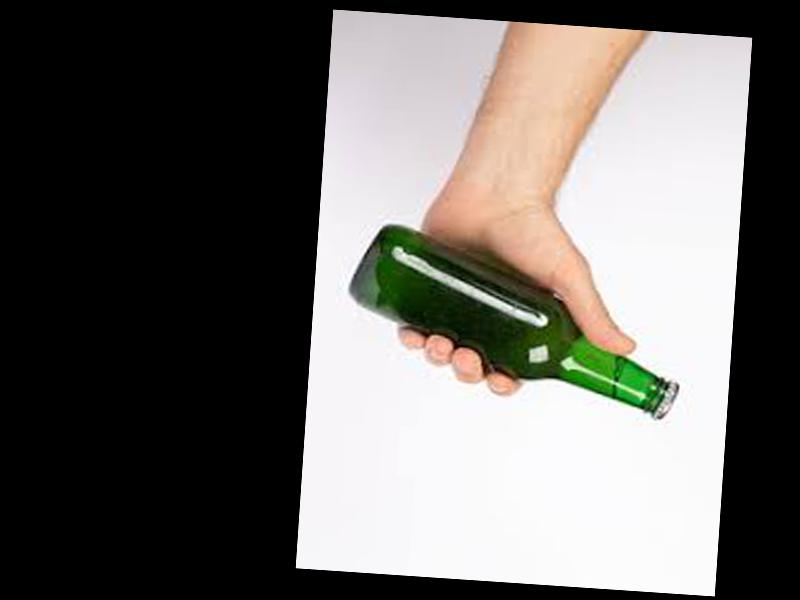Beer: (345, 222, 690, 419)
